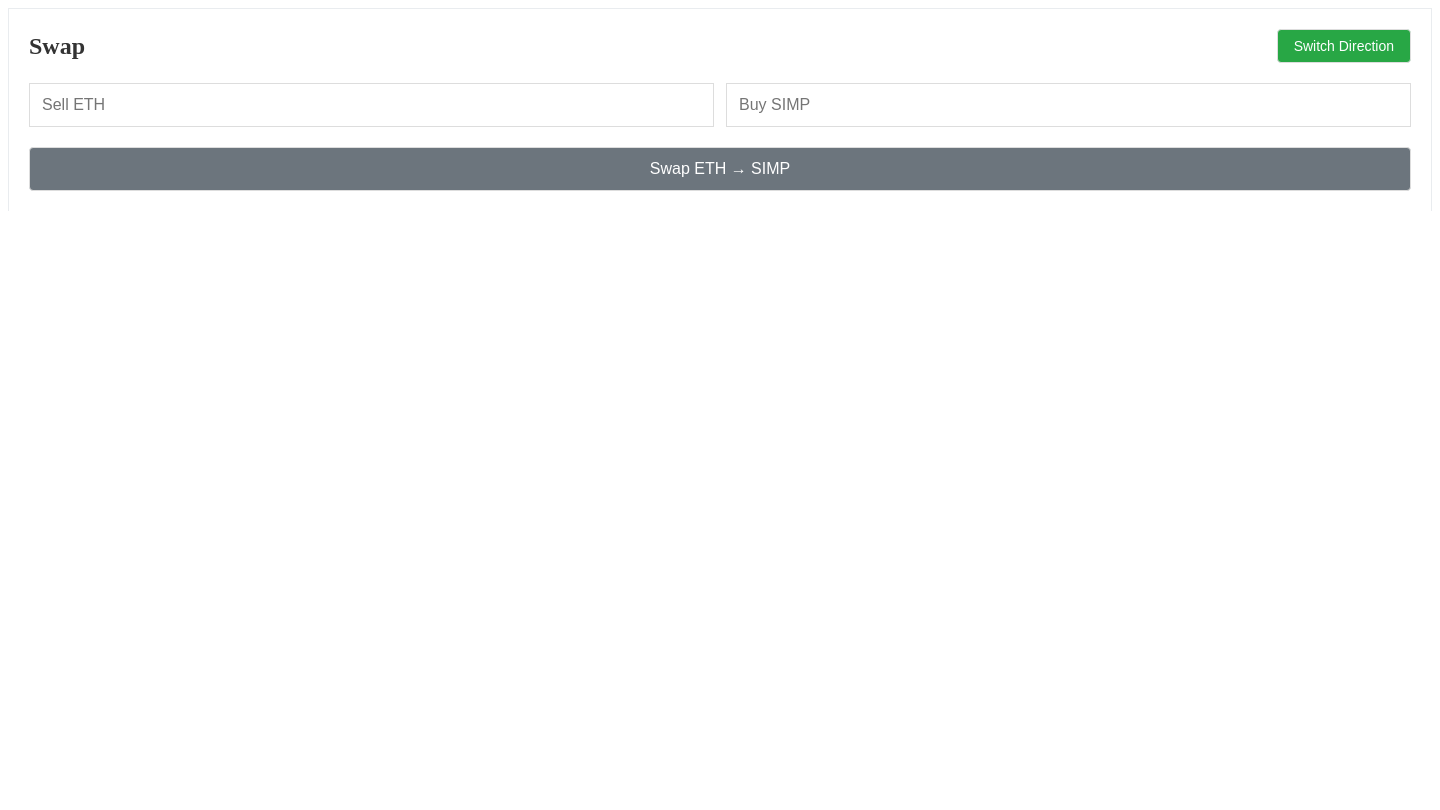
Test case: Swap Component › Confirmation Dialog Integration › should display user-friendly confirmation dialog text
The image size is (1440, 810).
# Component defaults to ETH to Token direction
Type "1.0" into the number field with placeholder "Sell ETH" at x=372, y=105, box [29,83,714,127]
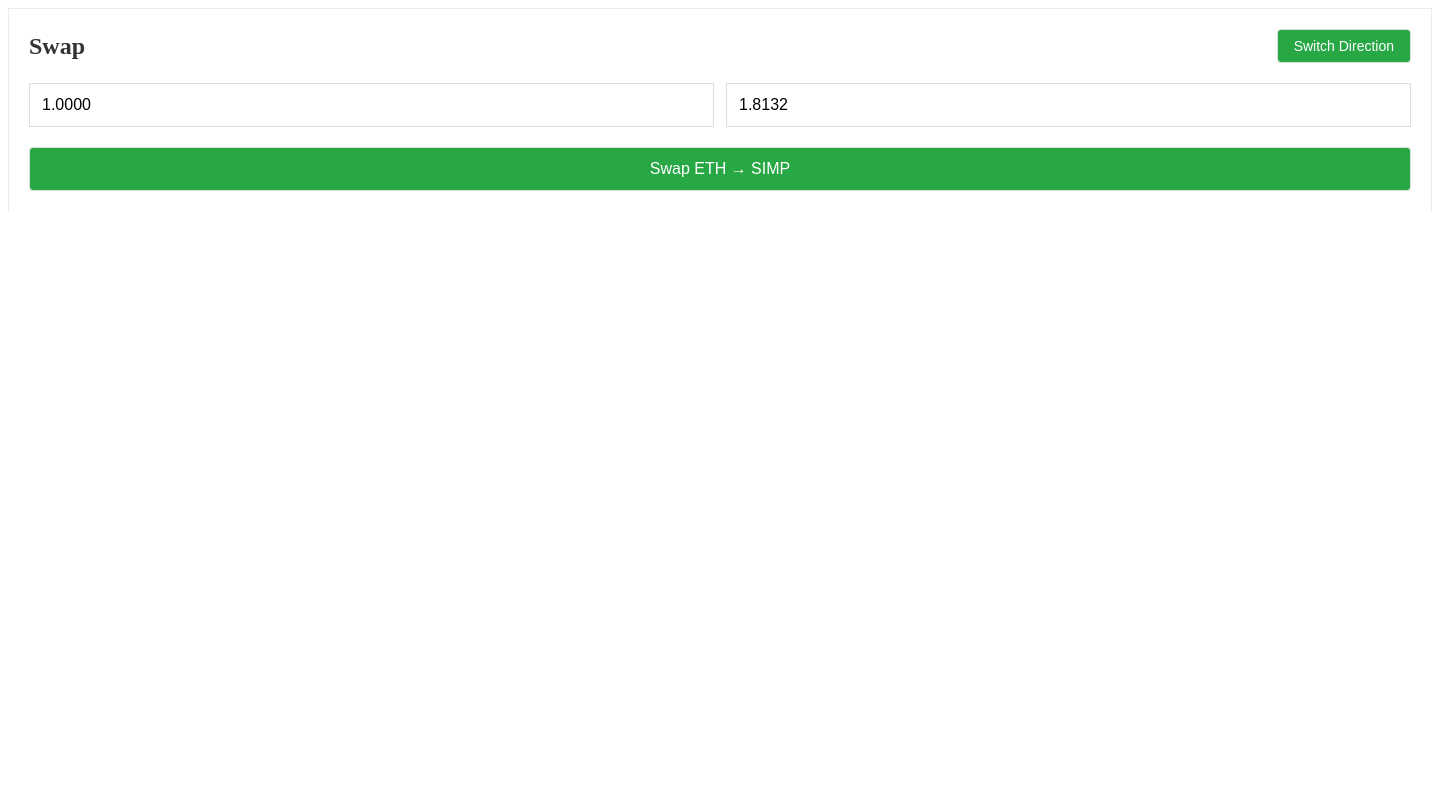
Click the button "Swap ETH → SIMP" at x=720, y=169, box [29,147,1411,191]
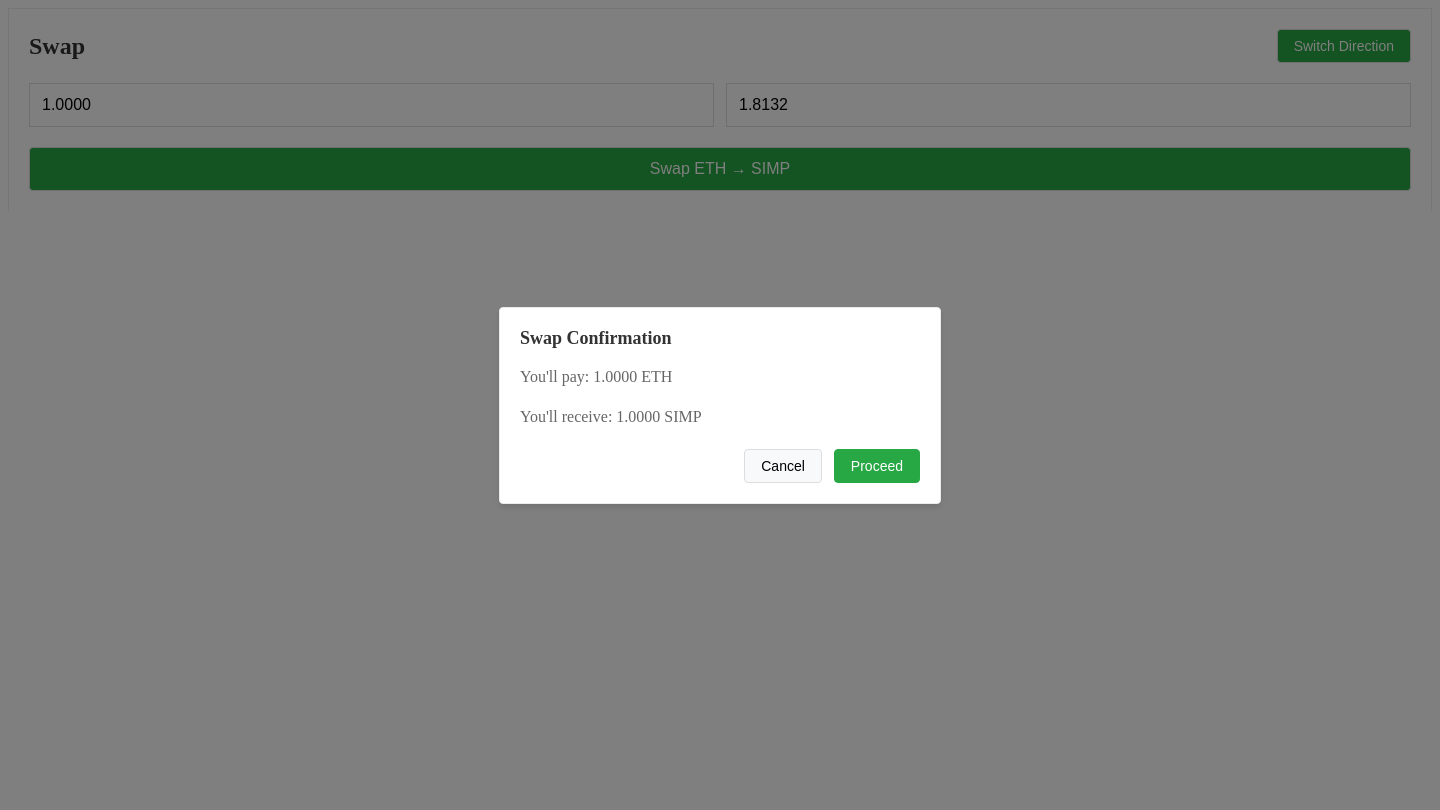
Expected: the heading "Swap Confirmation" is shown, [520,328,672,348]
Expected: the text "You'll pay: 1.0000 ETH" is shown, [520,368,672,384]
Expected: the text "You'll receive: 1.0000 SIMP" is shown, [520,408,702,424]
